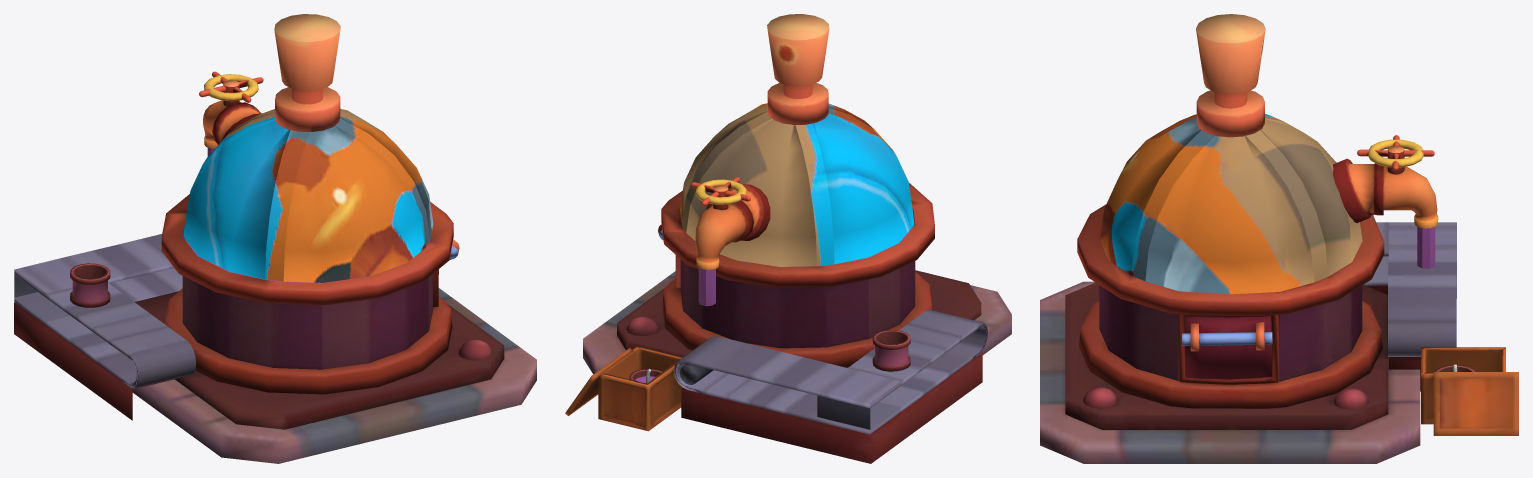
Rendered from Spa.fbx.
3 views of the same model, side by side, from view 1: azimuth 30°, elevation 25°; view 2: azimuth 150°, elevation 25°; view 3: azimuth 270°, elevation 25° (orthographic). The views are drawn at different scales.
Visible parts, largest first — view 1: SpaBase, Glass, Conveyor, Button, ConveyorBase, ButtonBase, Candle, Tap; view 2: SpaBase, Glass, Conveyor, ConveyorBase, Box, Button, ButtonBase, Candle, Tap, BoxLid, SpaLiquid, ConveyorWheel; view 3: SpaBase, Glass, Conveyor, Door, BoxLid, Button, ButtonBase, Box, Tap, SpaLiquid, ConveyorBase.
Part boxes in pixels (left/top/right/bottom): SpaBase: left=132, top=100, right=536, bottom=463; Glass: left=183, top=109, right=433, bottom=282; Conveyor: left=14, top=234, right=196, bottom=388; Button: left=274, top=14, right=340, bottom=90; ConveyorBase: left=14, top=274, right=184, bottom=420; ButtonBase: left=275, top=87, right=340, bottom=131; Candle: left=70, top=263, right=110, bottom=307; Tap: left=199, top=71, right=263, bottom=106; SpaBase: left=583, top=183, right=1011, bottom=373; Glass: left=680, top=103, right=914, bottom=266; Conveyor: left=673, top=309, right=987, bottom=434; ConveyorBase: left=681, top=352, right=982, bottom=463; Box: left=598, top=346, right=682, bottom=431; Button: left=767, top=14, right=829, bottom=86; ButtonBase: left=767, top=82, right=828, bottom=124; Candle: left=872, top=330, right=910, bottom=371; Tap: left=691, top=177, right=750, bottom=210; BoxLid: left=565, top=347, right=633, bottom=415; SpaLiquid: left=698, top=268, right=715, bottom=306; ConveyorWheel: left=679, top=364, right=713, bottom=384; SpaBase: left=1040, top=158, right=1438, bottom=463; Glass: left=1100, top=114, right=1362, bottom=294; Conveyor: left=1363, top=222, right=1456, bottom=356; Door: left=1182, top=316, right=1272, bottom=379; BoxLid: left=1433, top=372, right=1518, bottom=435; Button: left=1196, top=14, right=1265, bottom=94; ButtonBase: left=1196, top=90, right=1264, bottom=137; Box: left=1421, top=347, right=1505, bottom=424; Tap: left=1357, top=135, right=1434, bottom=174; SpaLiquid: left=1417, top=227, right=1435, bottom=268; ConveyorBase: left=1366, top=285, right=1420, bottom=391.
Size of the model in its own units: 2.91 by 2.74 by 3.36.
